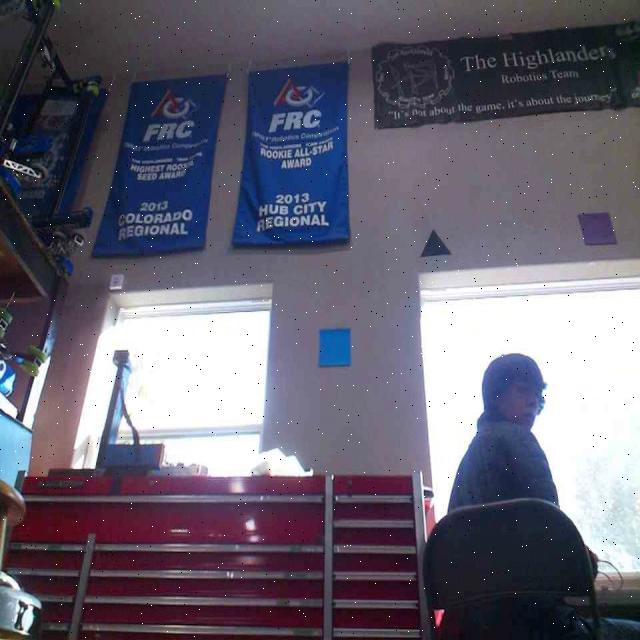square_blue: (317, 326, 352, 366)
square_purple: (576, 208, 617, 244)
triangle_black: (418, 227, 451, 257)
